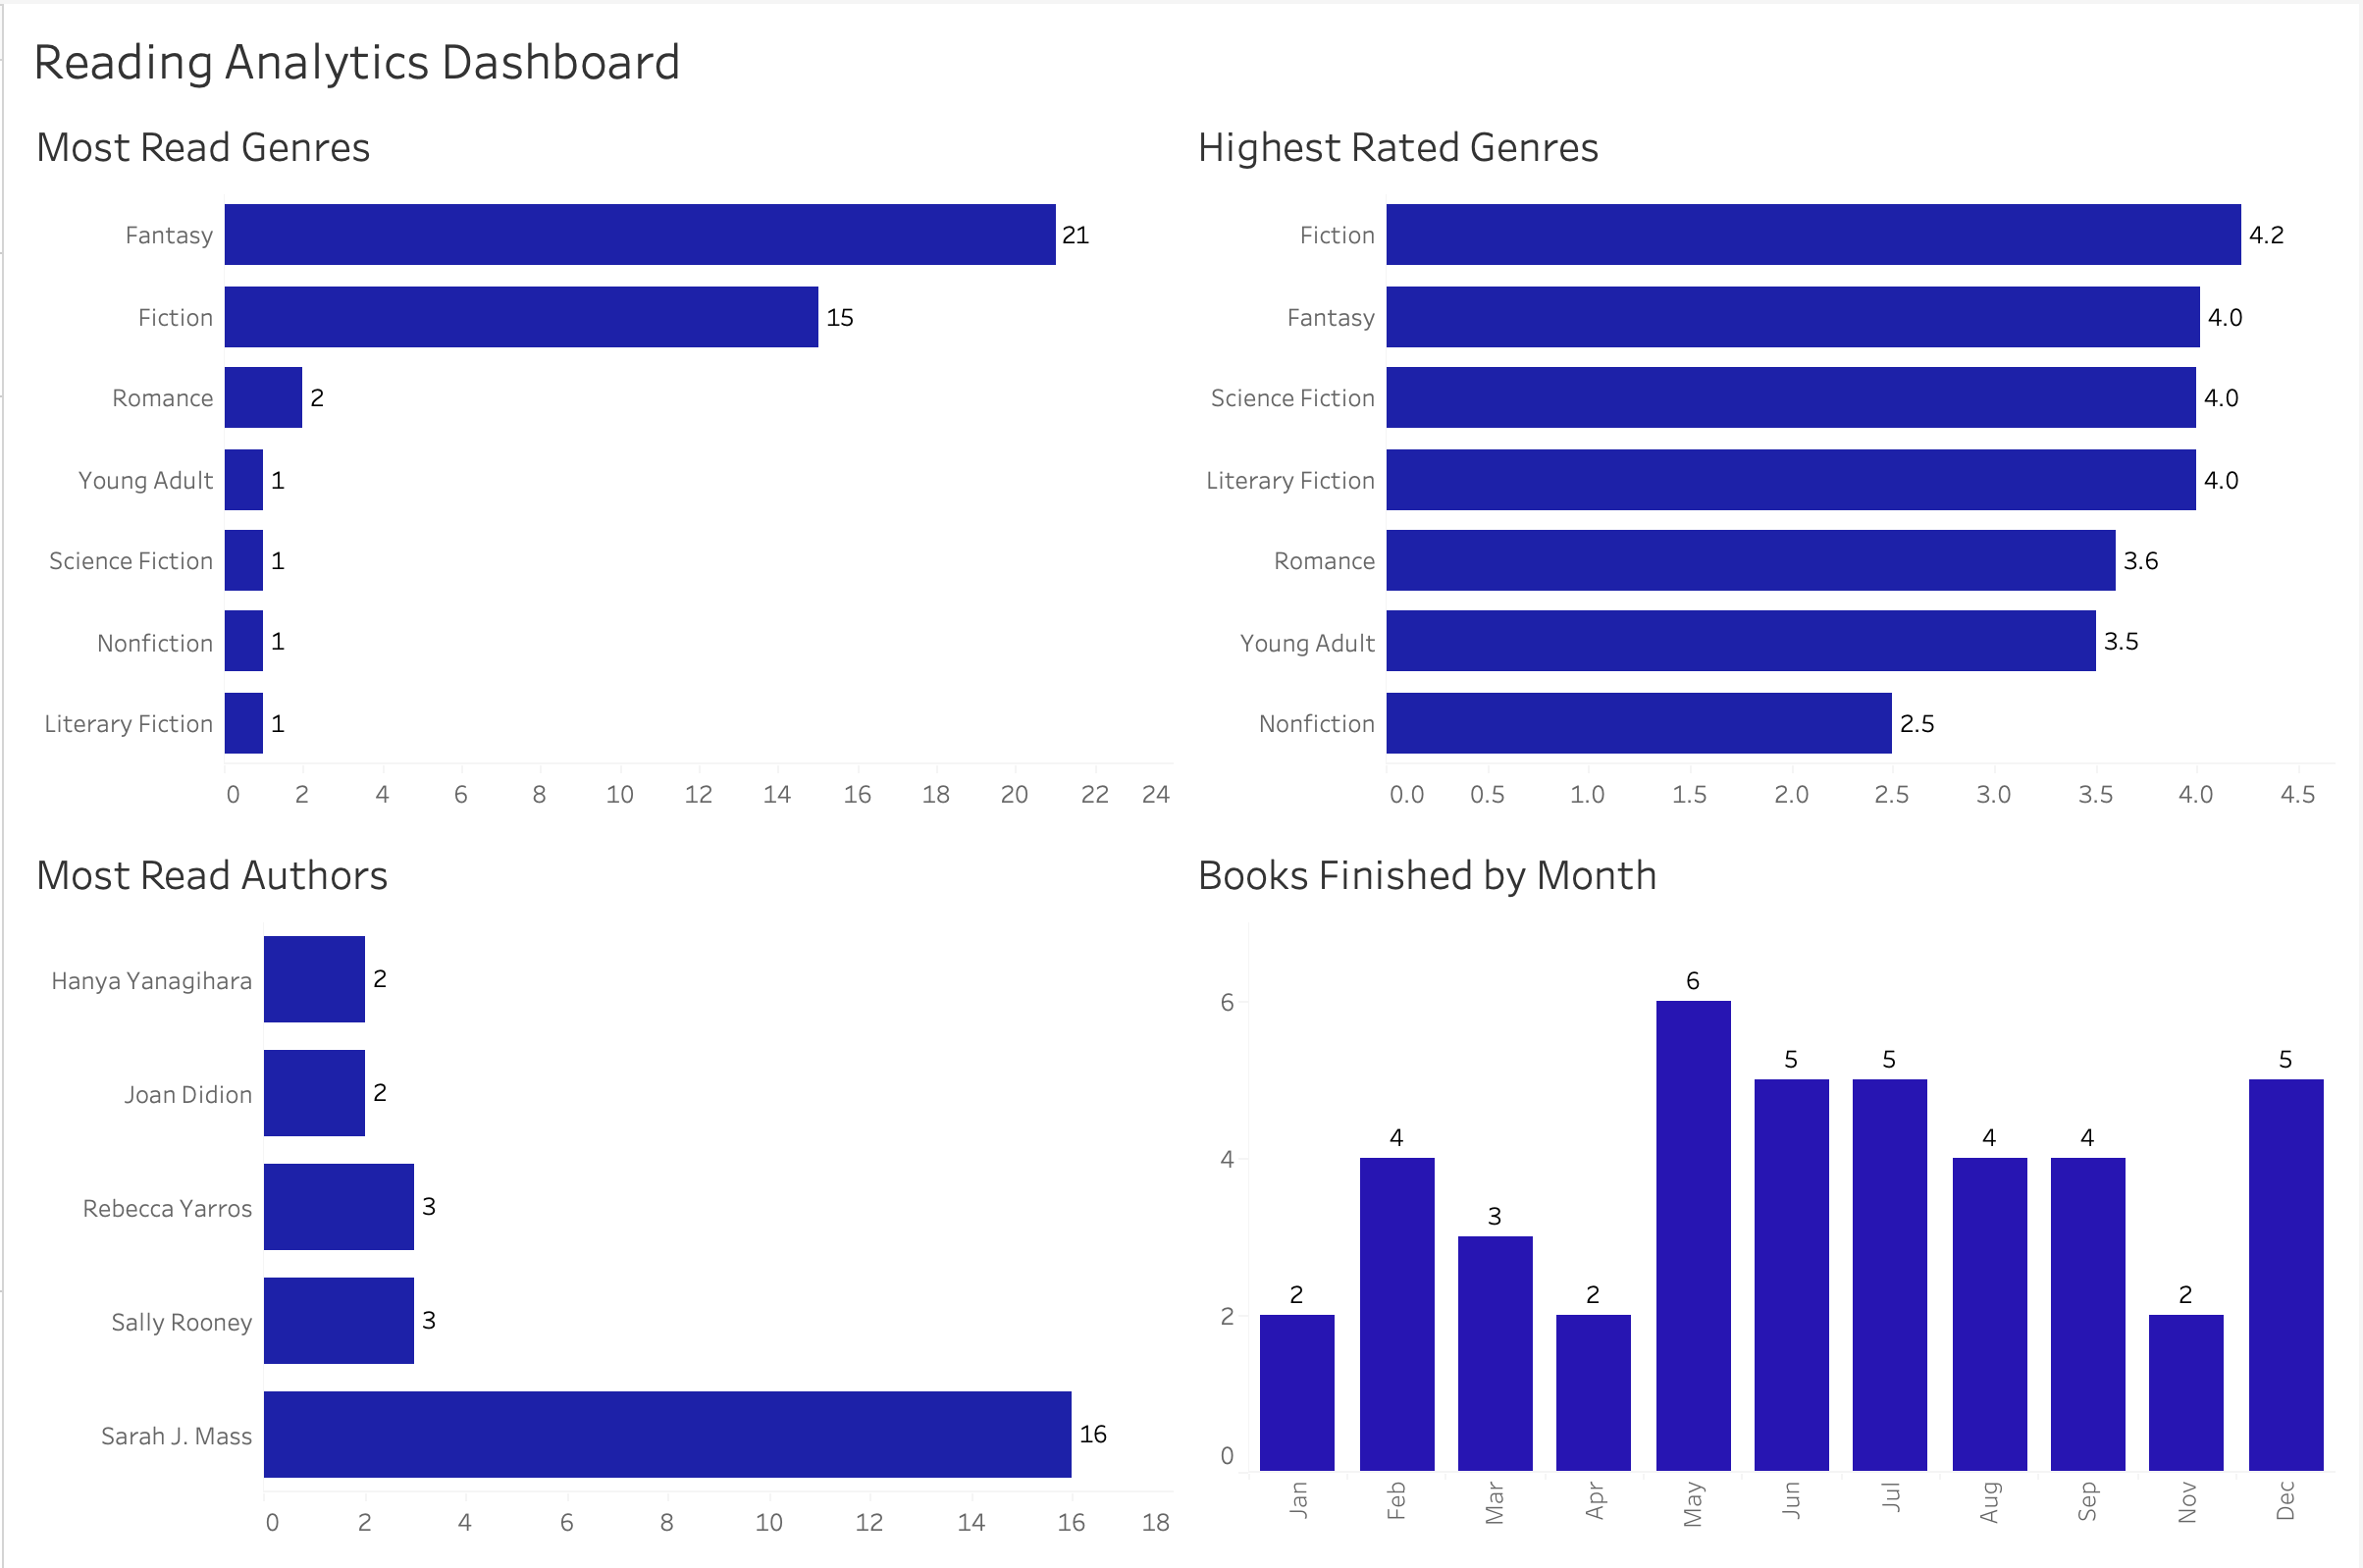

The page's visual inventory and layout, read from the dashboard file:
{"tool":"tableau","page":{"name":"Dashboard 1","canvas":[1200,800],"ordinal":0},"visuals":[{"type":"title","box":[8,8,1184,42]},{"type":"worksheet","title":"Most Read Genres","mark":"Automatic","rows":["Genre"],"cols":["Book_Title"],"box":[8,50,592,371]},{"type":"worksheet","title":"Highest Rated Genres","mark":"Automatic","rows":["Genre"],"cols":["Rating"],"box":[600,50,592,371]},{"type":"worksheet","title":"Most Read Authors","mark":"Automatic","rows":["Author"],"cols":["Raw!Data_B5F97AEE8F13409ABEC46BDCAB9FE9AD"],"box":[8,421,592,371]},{"type":"worksheet","title":"Books Finished by Month","mark":"Automatic","rows":["Raw!Data_B5F97AEE8F13409ABEC46BDCAB9FE9AD"],"cols":["Finish_Month"],"box":[600,421,592,371]}]}

Visuals, with their boxes in screenshot pixels (x1, y1, x2, y2), scaled from the page's 1200x800 canvas onto the 2363x1568 screenshot:
title: <box>16,16,2347,98</box>
"Most Read Genres" worksheet: <box>16,98,1181,825</box>
"Highest Rated Genres" worksheet: <box>1181,98,2347,825</box>
"Most Read Authors" worksheet: <box>16,825,1181,1552</box>
"Books Finished by Month" worksheet: <box>1181,825,2347,1552</box>
